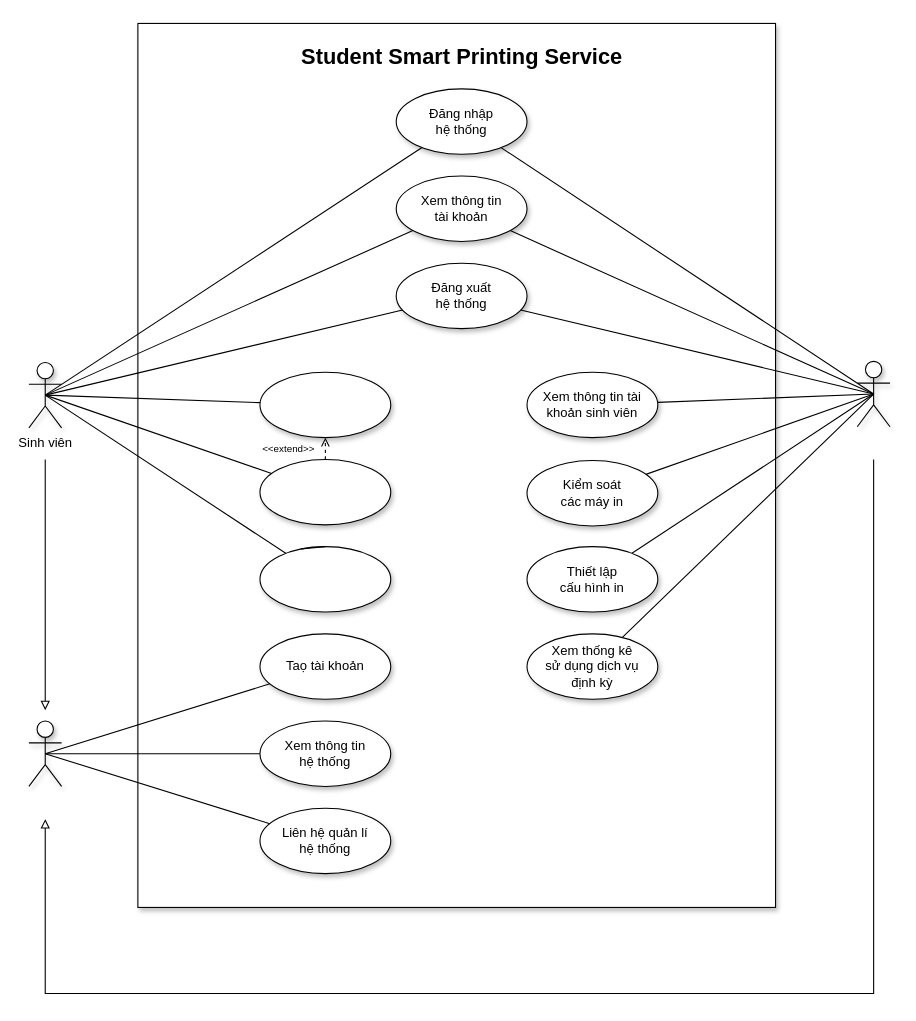
The diagram is 916 pixels wide and 1021 high, and some of its shapes have lost their labels. Each missing label, with the centre of its shape:
Khách: the point at 45,755
Mua giấy in: the point at 326,493
SPSO: the point at 874,395
Thực hiện in tài liệu: the point at 326,406
Xem lịch sử sử dụng dịch vụ: the point at 326,580
